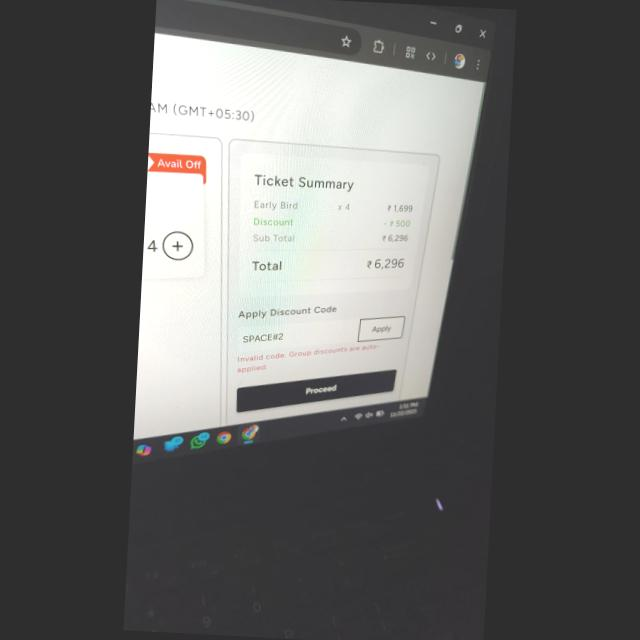laptop: (123, 0, 502, 640)
